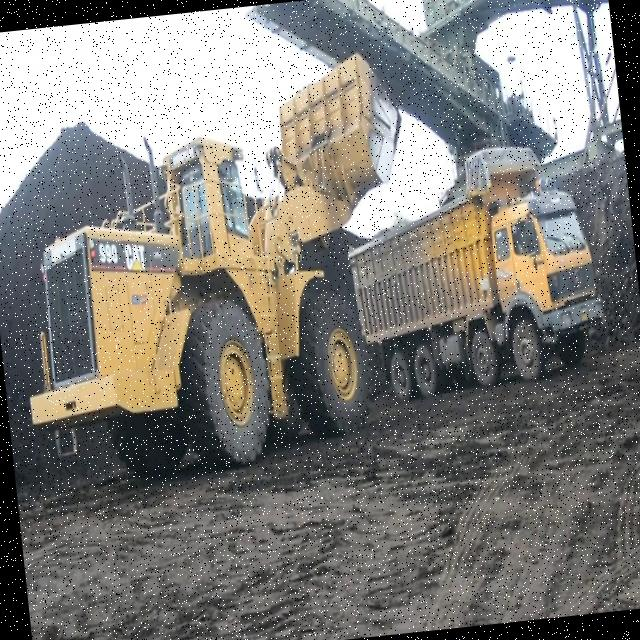Dump Truck: (337, 130, 610, 408)
Loader: (0, 41, 437, 498)
